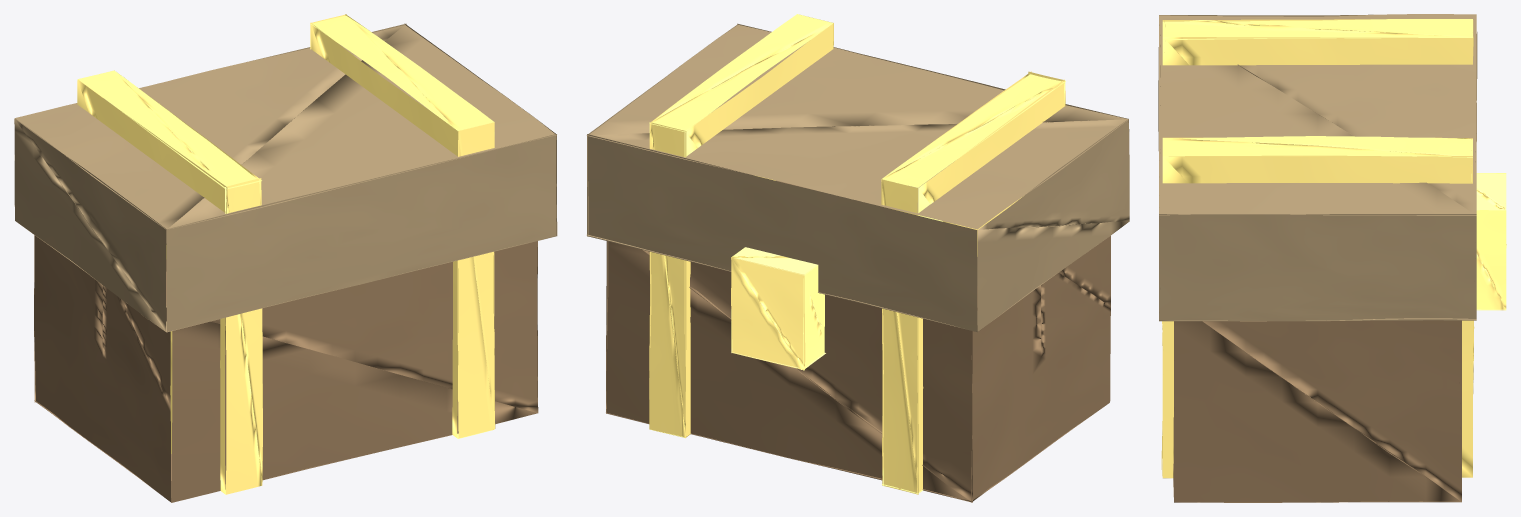
The model's file is chest.glb.
3 renders of one model, left to right at view 1: azimuth 30°, elevation 25°; view 2: azimuth 150°, elevation 25°; view 3: azimuth 270°, elevation 25°, orthographic. The views are drawn at different scales.
Parts seen in each view (by area): view 1: ChestBody; view 2: ChestBody; view 3: ChestBody.
Part boxes in pixels (x1=…): ChestBody: x1=14, y1=14, x2=557, y2=502; ChestBody: x1=586, y1=14, x2=1129, y2=502; ChestBody: x1=1158, y1=14, x2=1506, y2=502.
Size of the model in its own units: 1.28 by 0.9708 by 0.9432.
